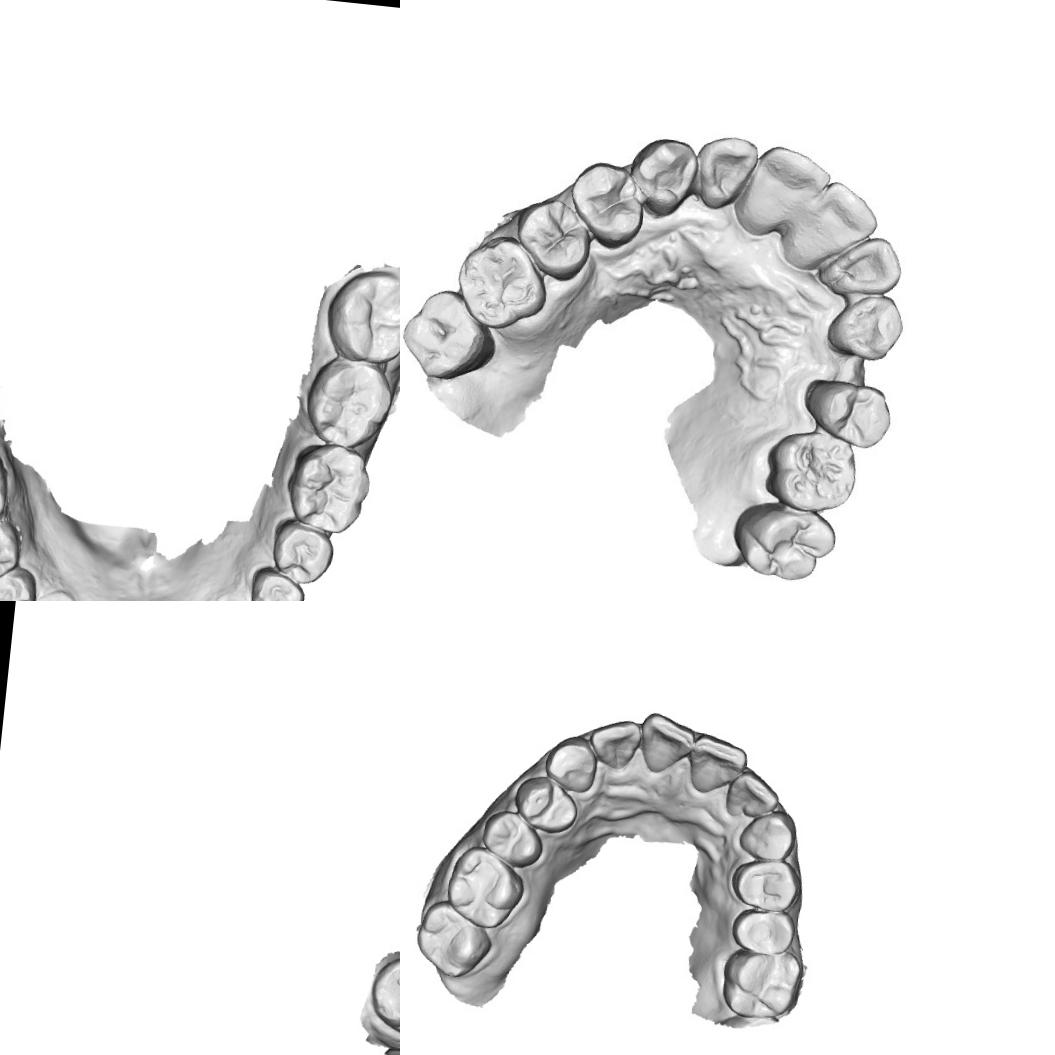canine: (822, 290, 910, 365), (628, 134, 699, 220), (735, 806, 802, 864), (542, 732, 601, 795)
incisor: (788, 175, 877, 280), (742, 141, 826, 244), (814, 230, 908, 302), (690, 129, 759, 212), (687, 730, 751, 799), (635, 709, 696, 777), (586, 716, 645, 774), (723, 766, 783, 822)
molar: (726, 498, 839, 588), (400, 285, 500, 386), (760, 422, 865, 517), (302, 353, 398, 453), (281, 440, 375, 538), (453, 236, 548, 327), (442, 843, 529, 934), (322, 267, 400, 368), (412, 896, 497, 983), (718, 944, 805, 1023), (364, 949, 400, 1039)
premolar: (564, 158, 650, 254), (797, 370, 895, 450), (509, 192, 596, 282), (266, 518, 339, 588), (510, 772, 582, 838), (728, 854, 804, 914), (480, 808, 548, 872), (728, 904, 797, 958), (243, 565, 306, 601), (0, 515, 24, 584), (0, 565, 39, 601)
